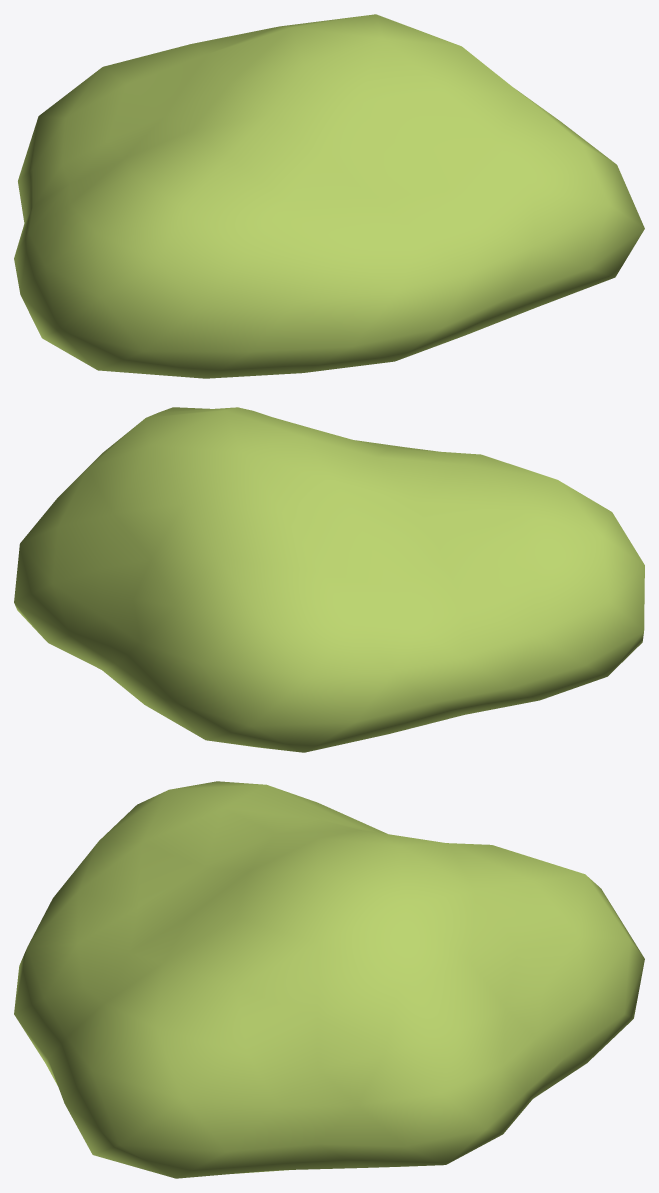
File: moss_mound.glb
The picture shows the model from 3 angles, top to bottom: view 1: azimuth 30°, elevation 25°; view 2: azimuth 150°, elevation 25°; view 3: azimuth 270°, elevation 25°; orthographic projection. The views are drawn at different scales.
Parts seen in each view (by area): view 1: SM_Forest_MossMound; view 2: SM_Forest_MossMound; view 3: SM_Forest_MossMound.
Part boxes in pixels (bbox=[...]): SM_Forest_MossMound: bbox=[14, 14, 644, 378]; SM_Forest_MossMound: bbox=[14, 407, 644, 752]; SM_Forest_MossMound: bbox=[14, 781, 644, 1178].
Size of the model in its own units: 4.4 by 1.73 by 3.99.
